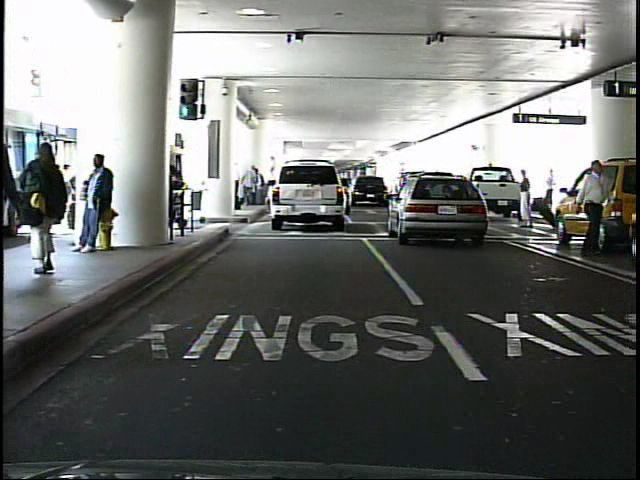person: (21, 140, 71, 274), (81, 149, 119, 254), (578, 157, 614, 260), (516, 169, 535, 231), (548, 168, 558, 212)
